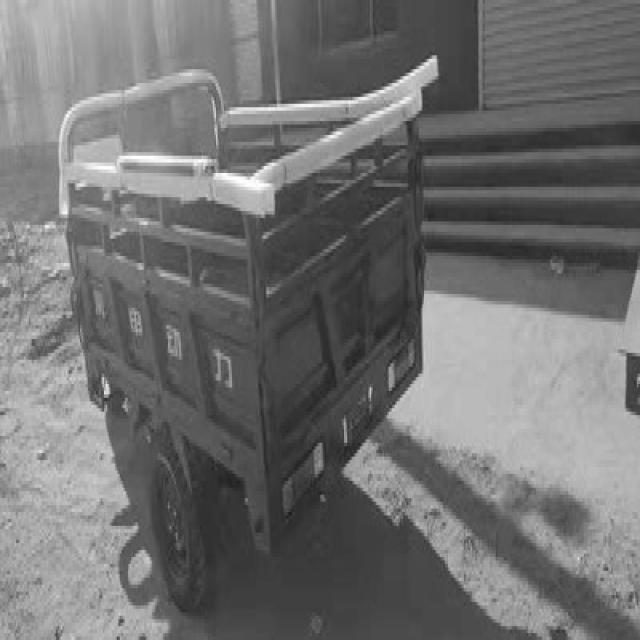tricycle: (55, 62, 428, 606)
